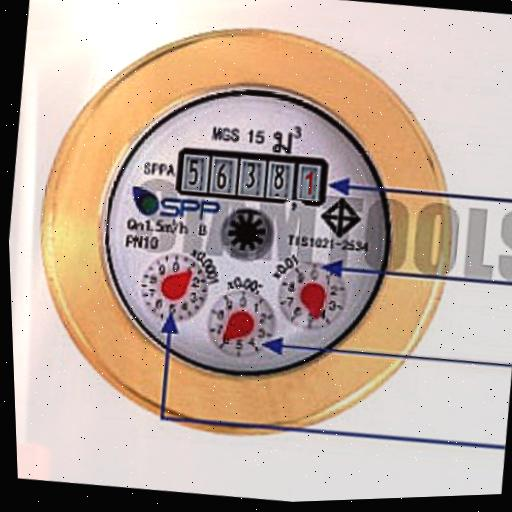1: (300, 167, 320, 200)
3: (240, 162, 262, 196)
5: (183, 158, 205, 192)
6: (212, 160, 233, 195)
8: (270, 165, 290, 200)
border_water_meter_number: (173, 141, 332, 213)
